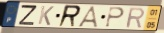A: (76, 5, 100, 29)
K: (37, 4, 56, 26)
P: (104, 7, 126, 29)
R: (57, 4, 83, 28), (125, 7, 145, 29)
Z: (17, 4, 39, 26)
